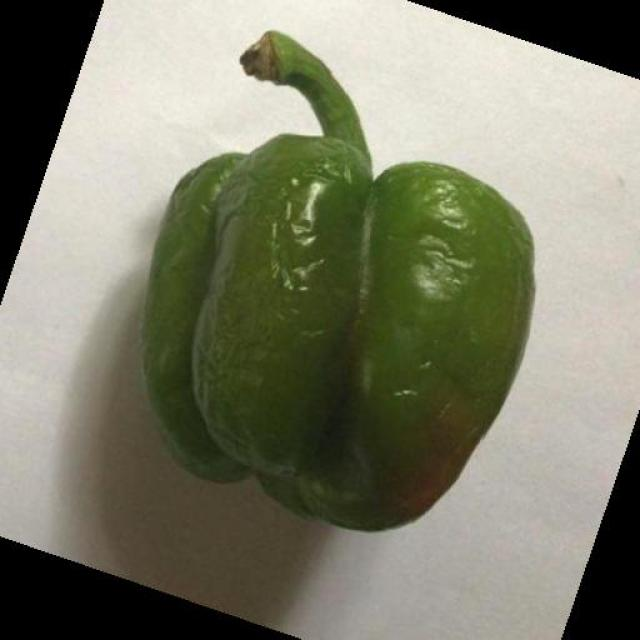Stale_Capsicum: (131, 25, 511, 518)
